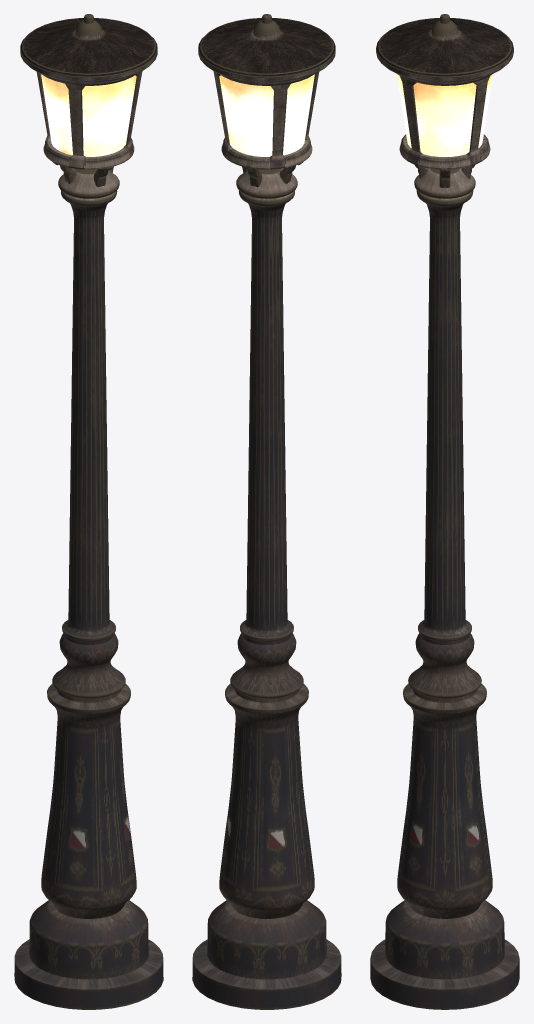
The model's file is lantern_utrecht.glb.
The picture shows the model from 3 angles, left to right: view 1: azimuth 30°, elevation 25°; view 2: azimuth 150°, elevation 25°; view 3: azimuth 270°, elevation 25°; orthographic projection.
Visible parts, largest first — view 1: Lantern, pCylinder4; view 2: Lantern, pCylinder4; view 3: Lantern, pCylinder4.
Boxes of the visible parts, box(x1,y1,x2,y2) form: Lantern: box(14, 168, 163, 1009); pCylinder4: box(20, 14, 157, 169); Lantern: box(192, 168, 341, 1009); pCylinder4: box(198, 14, 335, 169); Lantern: box(370, 168, 519, 1009); pCylinder4: box(376, 14, 513, 169).
Size of the model in its own units: 0.1 by 0.7117 by 0.1.
1 material, 1 textured.
